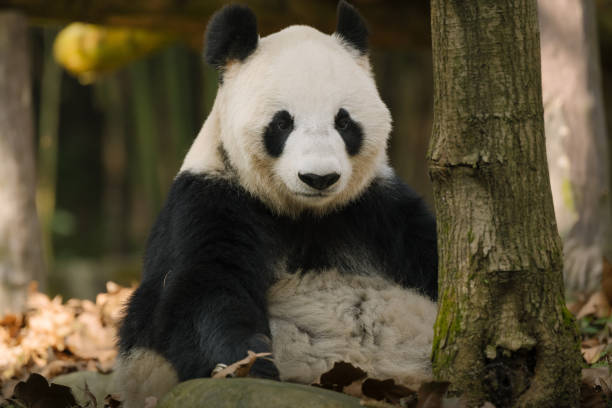panda: (193, 5, 410, 225)
